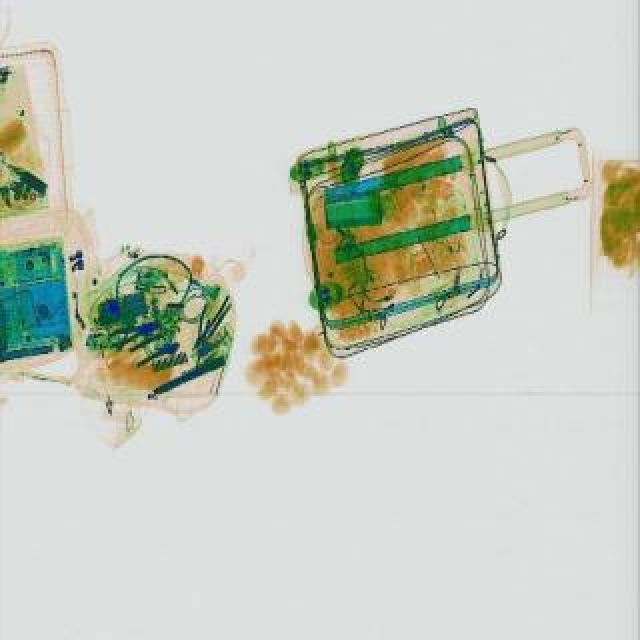scissors: (134, 340, 186, 376)
wrench: (190, 290, 232, 360), (106, 312, 168, 352)
